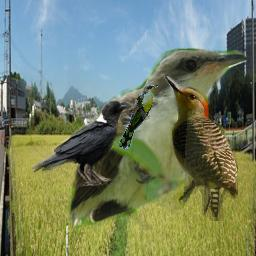Crow: (30, 97, 134, 187)
Cuckoo: (65, 47, 247, 230), (119, 85, 158, 149)
Woodpecker: (164, 76, 238, 221)
